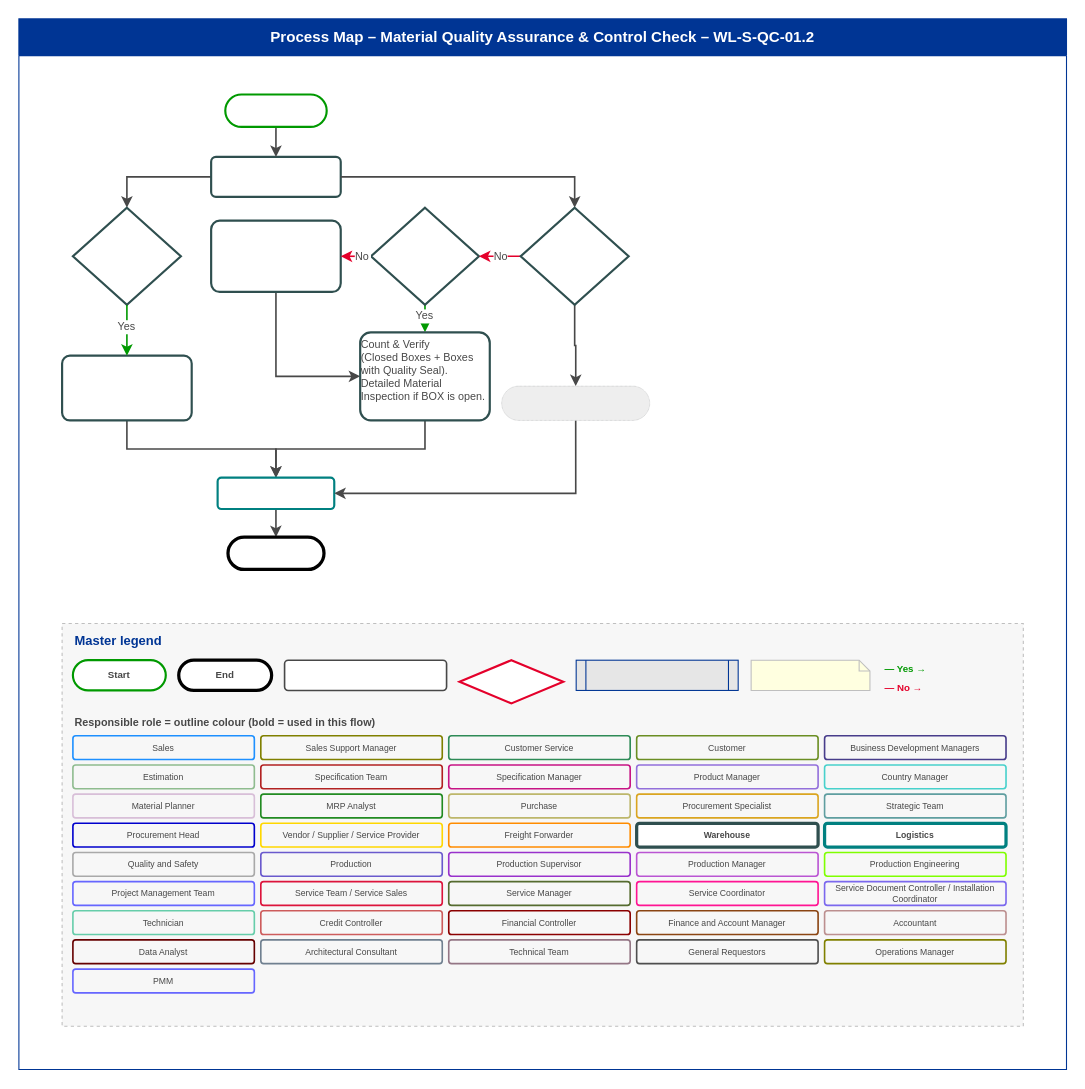
This 1085x1089 diagram has some shape labels left out. The shapes that lost their labels are listed below. From the top down, each one's centre as x and y in pixels, then its label:
At (275,110): "2Q CHECK".
At (275,176): "Request for 2Q Check".
At (126,255): "Material from Return Order".
At (275,255): "Open box inspection for Random 10-20% of the Materials. Full Shipment Count".
At (424,255): "From trusted Supplier / WH Stock Picked".
At (574,255): "Fragile ?".
At (126,387): "Complete Shipment/ Packaging to be inspected for damage and missing".
At (575,402): "FRAGILE HANDLING Ref S#: WL-S-FH-02".
At (275,493): "2Q Results".
At (275,553): "RETURN".
At (365,675): "Activity (outline = role)".
At (511,681): "Decision".
At (656,674): "Linked process (Ref ID)".
At (810,674): "Note / checklist".
